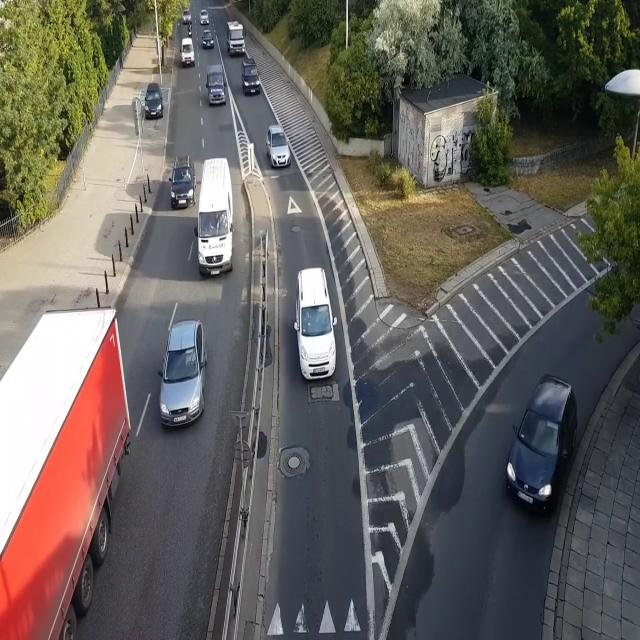car: (504, 374, 580, 520), (157, 319, 209, 428), (170, 152, 197, 212), (266, 124, 292, 169), (144, 82, 164, 120), (201, 28, 215, 50), (199, 8, 211, 28), (181, 9, 193, 23)
motorcycle: (186, 20, 194, 40)
truck: (0, 308, 131, 640), (225, 18, 247, 61)
van: (292, 265, 338, 380), (193, 158, 235, 278), (205, 63, 228, 107), (241, 58, 261, 96), (179, 36, 196, 66)
